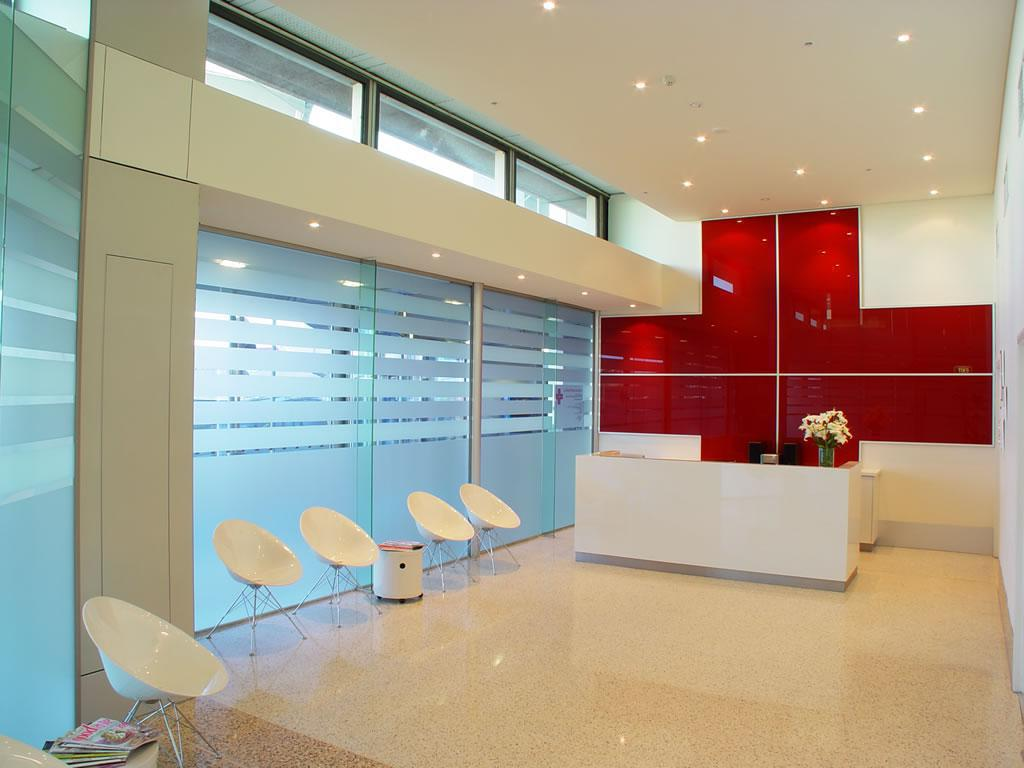Bote de Basura: (378, 535, 431, 606)
Puerta: (550, 303, 598, 525)
Ventana: (197, 226, 375, 628), (377, 263, 474, 585), (481, 287, 554, 547)
